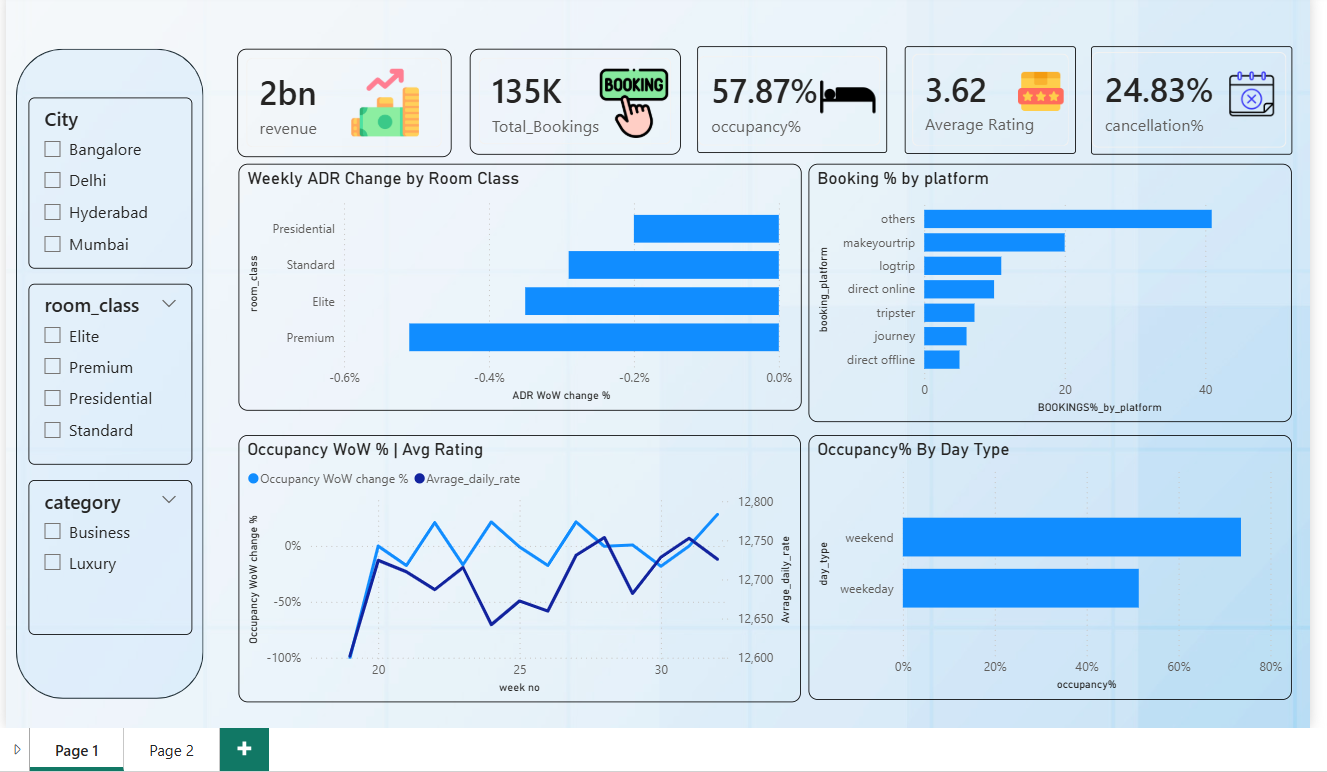

The page's visual inventory and layout, read from the dashboard file:
{"tool":"powerbi","page":{"name":"Page 1","canvas":[1280,720],"ordinal":0},"visuals":[{"type":"cardVisual","fields":{"Data":["fact_bookings.revenue"]},"box":[227.5,52.5,210,106.2],"z":0},{"type":"cardVisual","fields":{"Data":["fact_bookings.occupancy%"]},"box":[678.8,50,186.2,105],"z":1000},{"type":"cardVisual","fields":{"Data":["Avg(fact_bookings.ratings_given)"]},"box":[882.2,50.3,168.1,105.5],"z":2000},{"type":"barChart","title":"Booking % by platform","fields":{"Category":["fact_bookings.booking_platform"],"Y":["fact_bookings.BOOKINGS%_by_platform"]},"box":[787.7,165.9,474.7,253.9],"z":3000},{"type":"barChart","title":"Occupancy% By Day Type","fields":{"Y":["fact_bookings.occupancy%"],"Category":["dim_date.day_type"]},"box":[787.7,431.4,474.7,259.7],"z":4000},{"type":"barChart","title":"Weekly ADR Change by Room Class","fields":{"Category":["dim_rooms.room_class"],"Y":["fact_bookings.ADR WoW change %"]},"box":[228,165.9,552.6,242.4],"z":5000},{"type":"cardVisual","fields":{"Data":["fact_bookings.Total_Bookings"]},"box":[455,52.5,207.5,103.8],"z":6000},{"type":"cardVisual","fields":{"Data":["fact_bookings.cancellation%"]},"box":[1065,50,197.5,106.2],"z":7000},{"type":"shape","box":[9.8,52.8,184.1,638],"z":8000},{"type":"slicer","fields":{"Values":["dim_hotels.city"]},"box":[22.1,100.6,160.7,168.1],"z":9000},{"type":"slicer","fields":{"Values":["dim_rooms.room_class"]},"box":[22.1,283.4,160.7,177.9],"z":10000},{"type":"slicer","fields":{"Values":["dim_hotels.category"]},"box":[22.1,476.1,160.7,152.1],"z":11000},{"type":"lineChart","title":"Occupancy WoW % | Avg Rating","fields":{"Category":["dim_date.week no"],"Y":["fact_bookings.Occupancy WoW change %"],"Y2":["fact_bookings.Avrage_daily_rate"]},"box":[228.2,431.9,552.2,262.6],"z":12000},{"type":"image","box":[332.5,72.5,78.8,66.2],"z":13000},{"type":"image","box":[582.5,70,67.5,72.5],"z":14000},{"type":"image","box":[797.5,72.5,57.5,55],"z":15000},{"type":"image","box":[990,62.5,51.2,63.8],"z":16000},{"type":"image","box":[1196.2,62.5,52.5,68.8],"z":17000}]}

Visuals, with their boxes in screenshot pixels (x1, y1, x2, y2):
cardVisual - fact_bookings.revenue: region(233, 43, 447, 152)
cardVisual - fact_bookings.occupancy%: region(694, 41, 884, 148)
cardVisual - Avg(fact_bookings.ratings_given): region(902, 41, 1074, 149)
"Booking % by platform" barChart: region(805, 159, 1291, 419)
"Occupancy% By Day Type" barChart: region(805, 431, 1291, 696)
"Weekly ADR Change by Room Class" barChart: region(233, 159, 798, 407)
cardVisual - fact_bookings.Total_Bookings: region(465, 43, 677, 149)
cardVisual - fact_bookings.cancellation%: region(1089, 41, 1291, 149)
shape: region(10, 44, 198, 696)
slicer - dim_hotels.city: region(23, 92, 187, 264)
slicer - dim_rooms.room_class: region(23, 279, 187, 461)
slicer - dim_hotels.category: region(23, 476, 187, 632)
"Occupancy WoW % | Avg Rating" lineChart: region(233, 431, 798, 700)
image: region(340, 64, 421, 131)
image: region(596, 61, 665, 135)
image: region(815, 64, 874, 120)
image: region(1012, 54, 1065, 119)
image: region(1223, 54, 1277, 124)
